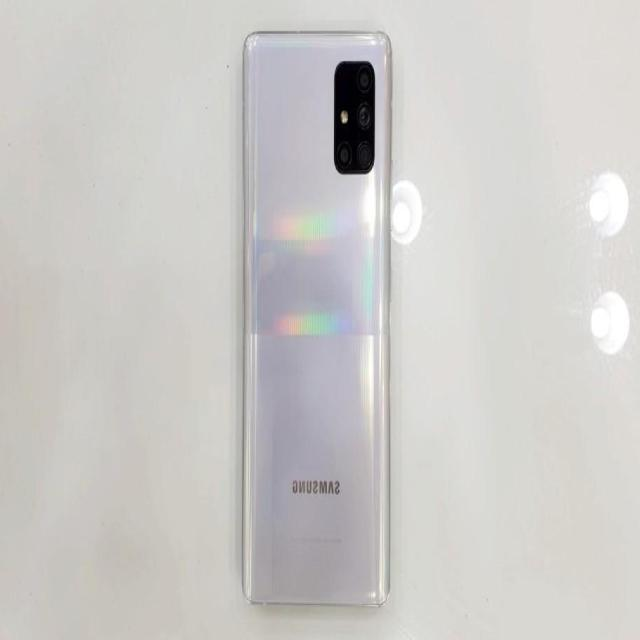mobile: (240, 28, 390, 612)
